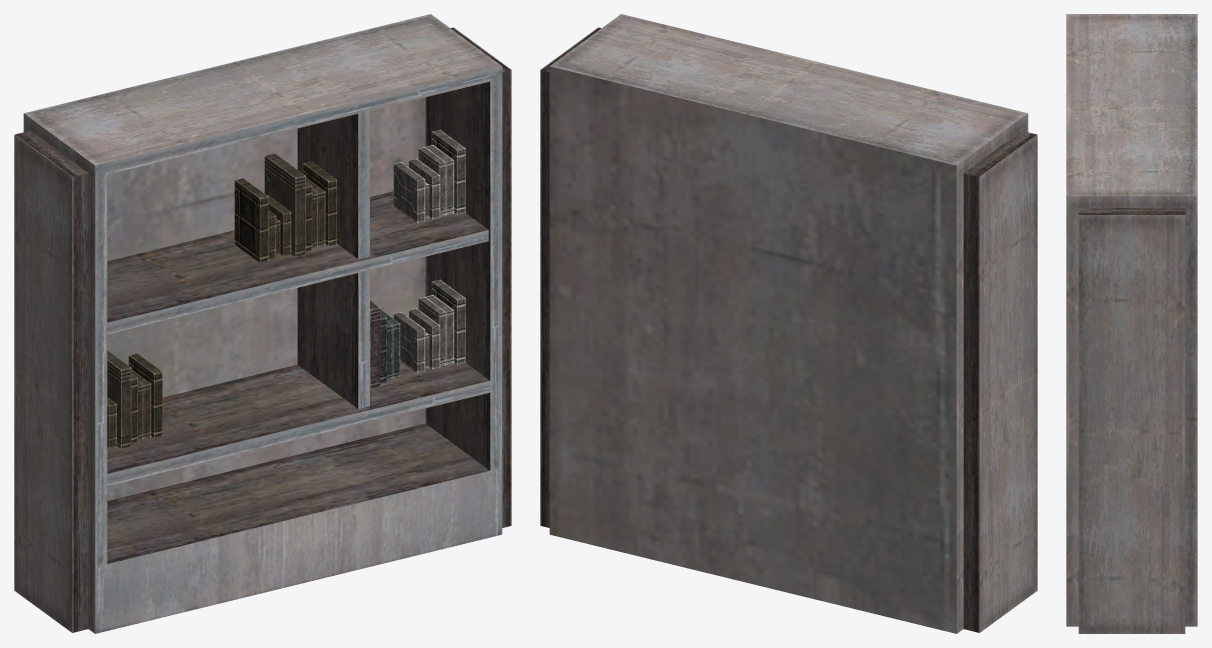
The model's file is frn_all_chep_bookcase_s01_l0.fbx.
The picture shows the model from 3 angles, left to right: view 1: azimuth 30°, elevation 25°; view 2: azimuth 150°, elevation 25°; view 3: azimuth 270°, elevation 25°; orthographic projection. The views are drawn at different scales.
Parts seen in each view (by area): view 1: mesh_node; view 2: mesh_node; view 3: mesh_node.
Boxes of the visible parts, left/top/right/bottom form: mesh_node: left=14, top=14, right=511, bottom=633; mesh_node: left=540, top=14, right=1037, bottom=633; mesh_node: left=1066, top=14, right=1197, bottom=633.
Size of the model in its own units: 1.77 by 1.8 by 0.4979.
